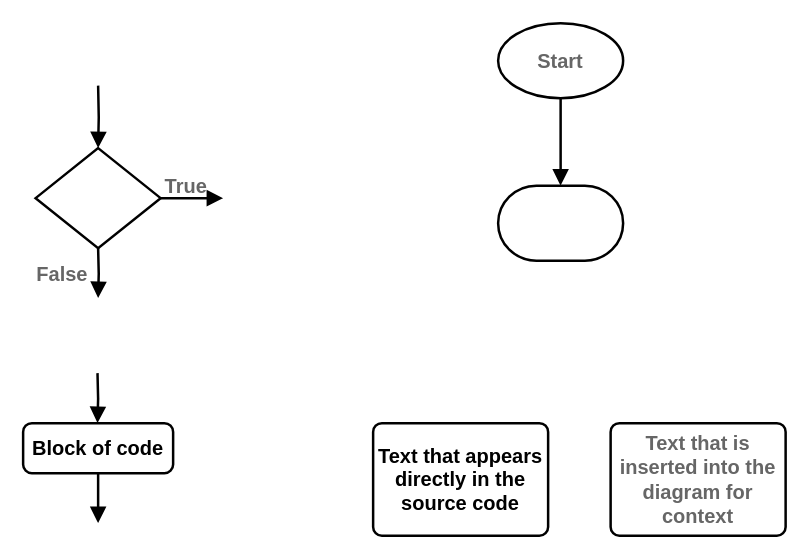
The diagram is 808 pixels wide and 558 high, and some of its shapes have lost their labels. The box of each missing label's shape, as (x1, y1, x2, y2) in pixels:
Condition: (34, 146, 161, 249)
End: (496, 184, 624, 261)
